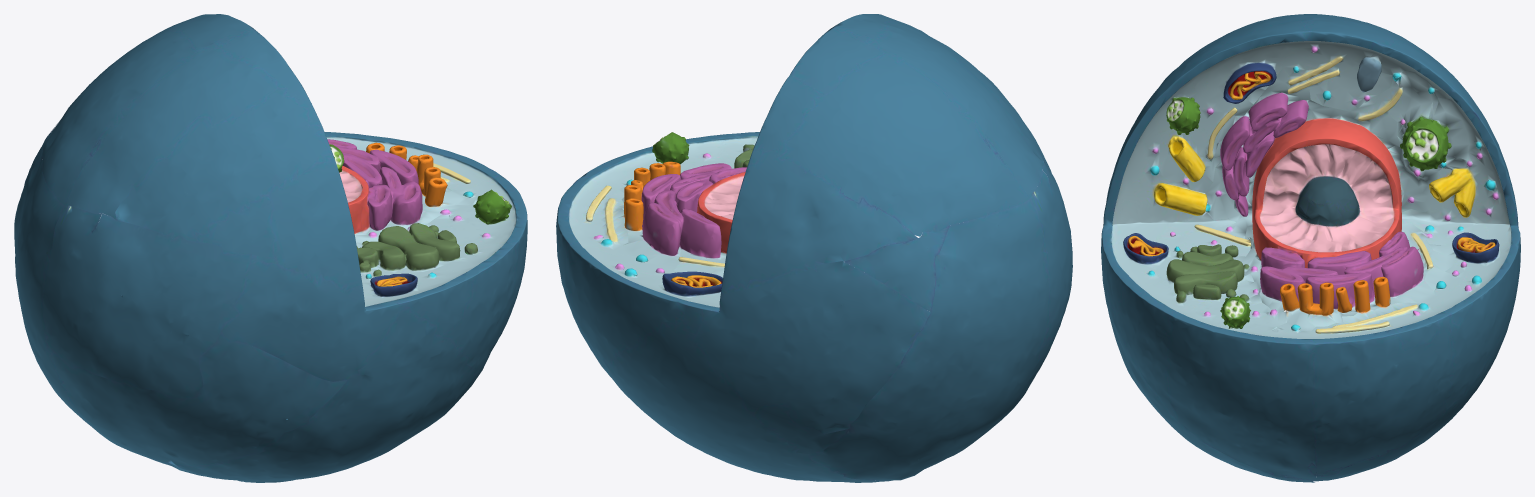
The model's file is Celula_animal.glb.
3 views of the same model, side by side, from view 1: azimuth 30°, elevation 25°; view 2: azimuth 150°, elevation 25°; view 3: azimuth 270°, elevation 25° (orthographic). The views are drawn at different scales.
Parts seen in each view (by area): view 1: tripo_node_58c57480-ca40-41d6-a926-37f56733c8c9; view 2: tripo_node_58c57480-ca40-41d6-a926-37f56733c8c9; view 3: tripo_node_58c57480-ca40-41d6-a926-37f56733c8c9.
Part boxes in pixels (x1,y1,x2,y2): tripo_node_58c57480-ca40-41d6-a926-37f56733c8c9: [14, 14, 527, 482]; tripo_node_58c57480-ca40-41d6-a926-37f56733c8c9: [556, 14, 1072, 482]; tripo_node_58c57480-ca40-41d6-a926-37f56733c8c9: [1101, 14, 1520, 482].
Size of the model in its own units: 1.94 by 1.75 by 1.61.
Materials: 1 (1 with a texture image).
